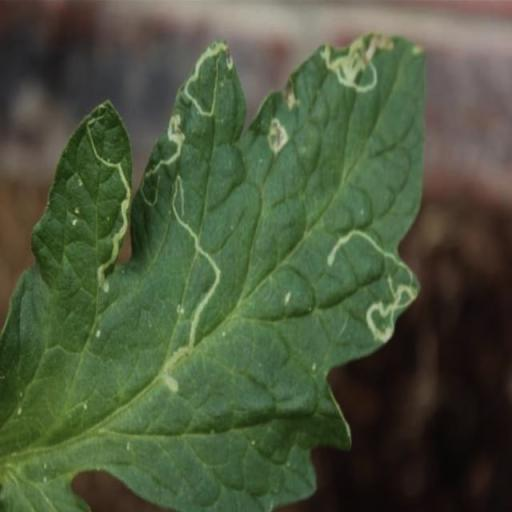disease_tomato: (0, 32, 425, 512)
